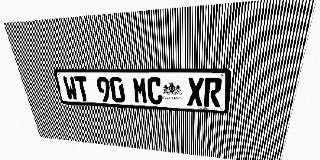0: (109, 77, 125, 103)
9: (96, 77, 112, 102)
C: (147, 77, 163, 105)
M: (132, 77, 148, 104)
R: (204, 78, 222, 107)
T: (74, 76, 91, 101)
W: (62, 76, 79, 100)
X: (187, 77, 204, 107)
